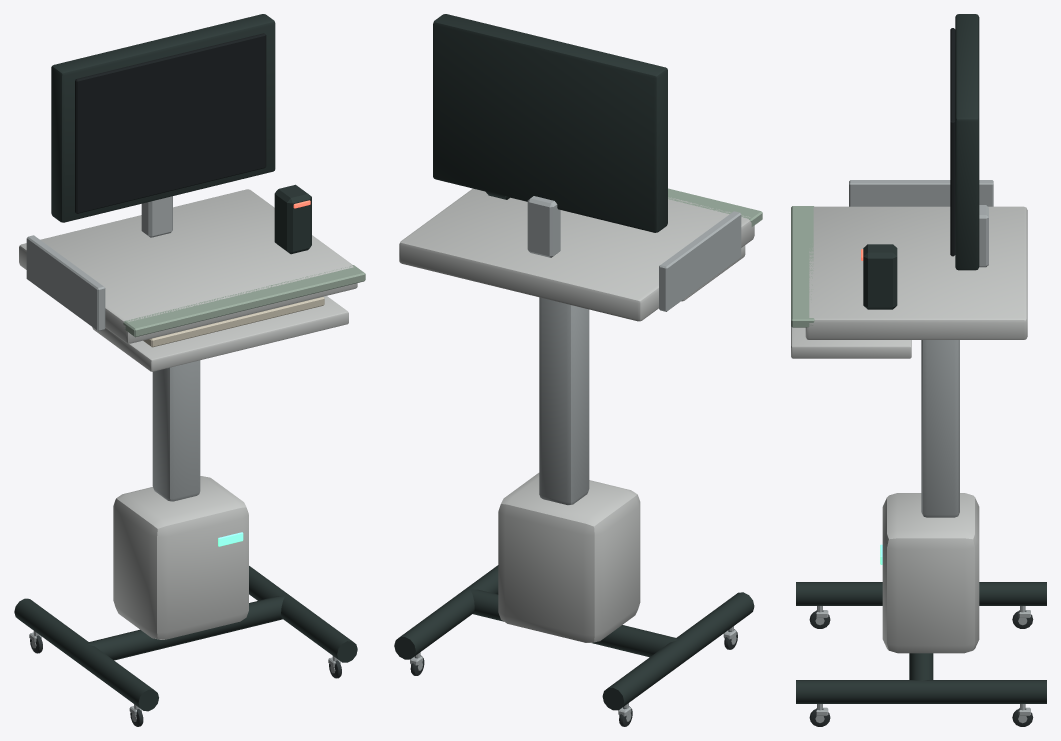
Rendered from records-terminal.glb.
3 renders of one model, left to right at view 1: azimuth 30°, elevation 25°; view 2: azimuth 150°, elevation 25°; view 3: azimuth 270°, elevation 25°, orthographic. The views are drawn at different scales.
Visible parts, largest first — view 1: records-terminal; view 2: records-terminal; view 3: records-terminal.
Boxes of the visible parts, x1=… form: records-terminal: x1=14, y1=14, x2=365, y2=726; records-terminal: x1=394, y1=14, x2=762, y2=726; records-terminal: x1=791, y1=14, x2=1046, y2=726.
Size of the model in its own units: 0.58 by 1.4 by 0.53.
